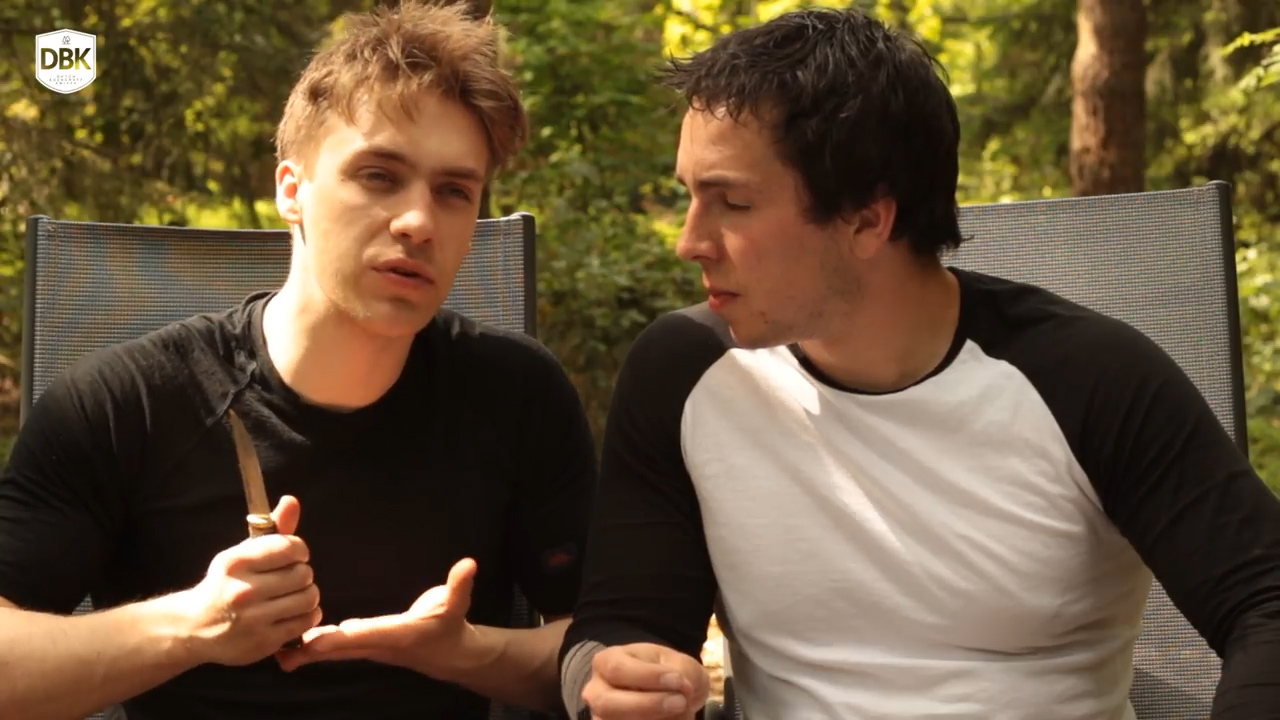knife: (195, 389, 327, 597)
